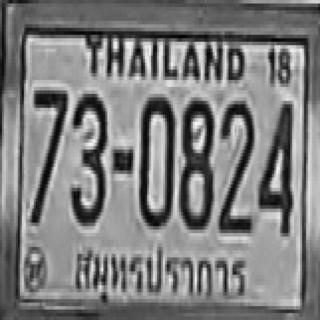N00: (137, 94, 173, 226)
N02: (218, 97, 253, 230)
N03: (70, 90, 105, 223)
N04: (256, 97, 292, 233)
N07: (31, 87, 67, 223)
N08: (179, 94, 213, 226)
P57: (70, 236, 248, 313)
